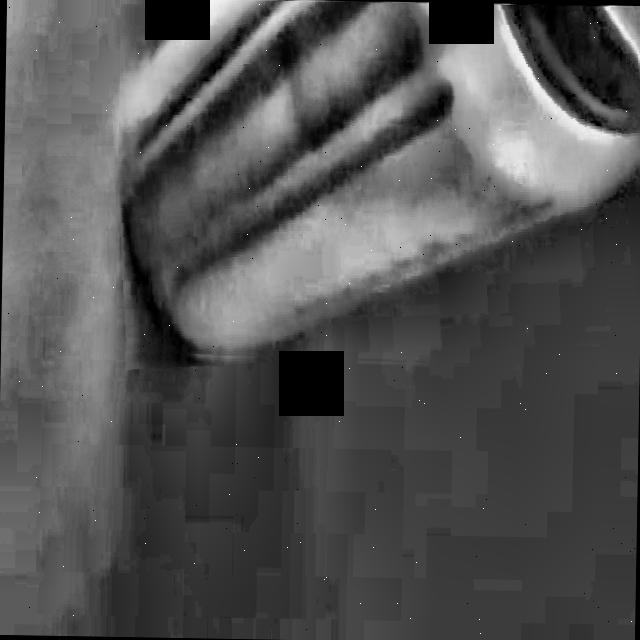bottle: (116, 0, 640, 356)
